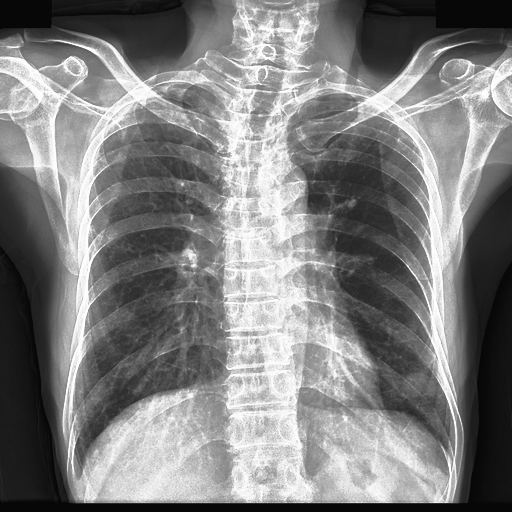Calcification: (105, 81, 173, 133), (66, 461, 88, 489)
Cardiomegaly: (71, 106, 220, 446), (336, 245, 449, 434)
Other lesion: (337, 94, 416, 151), (339, 48, 364, 99), (402, 372, 431, 396)
Pleural effusion: (66, 461, 88, 489)
Pleural thickening: (400, 372, 444, 399)
Pneumothorax: (97, 82, 203, 188), (337, 94, 416, 151)
Pulmonary fibrosis: (402, 372, 431, 396)
